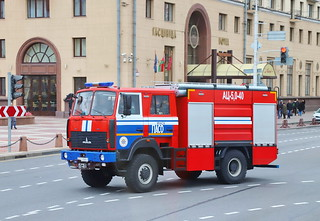special: (62, 81, 279, 194)
